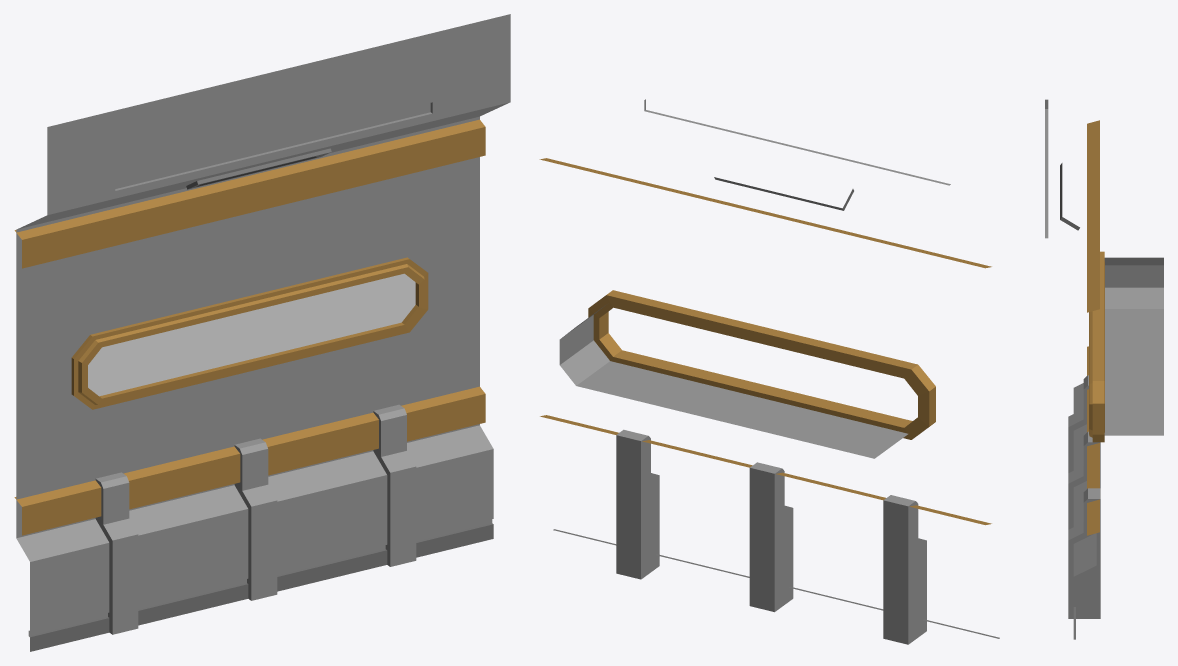
3 views of the same model, side by side, from view 1: azimuth 30°, elevation 25°; view 2: azimuth 150°, elevation 25°; view 3: azimuth 270°, elevation 25° (orthographic). The views are drawn at different scales.
Parts seen in each view (by area): view 1: LongWindow_Wall_SideA; view 2: LongWindow_Wall_SideA; view 3: LongWindow_Wall_SideA.
Boxes of the visible parts, x1,y1,x2,y2 form: LongWindow_Wall_SideA: (14, 14, 510, 651); LongWindow_Wall_SideA: (539, 99, 999, 644); LongWindow_Wall_SideA: (1045, 99, 1163, 639).
Bounding box in the file's own units: 4 × 4.43 × 1.06.
